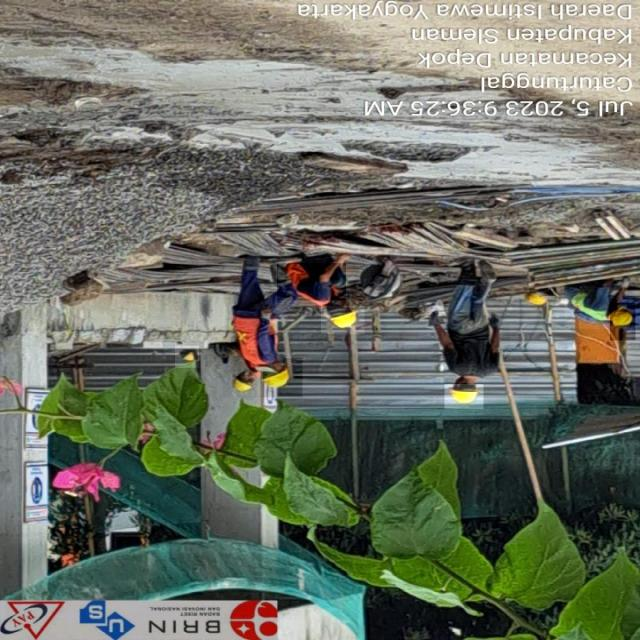Helmet: (443, 324, 510, 384), (260, 358, 302, 398), (321, 306, 365, 334), (444, 381, 484, 409), (223, 370, 263, 397), (610, 303, 636, 341), (175, 346, 199, 368)
Safety Vest: (231, 309, 283, 372), (277, 263, 346, 301), (565, 290, 609, 329)
